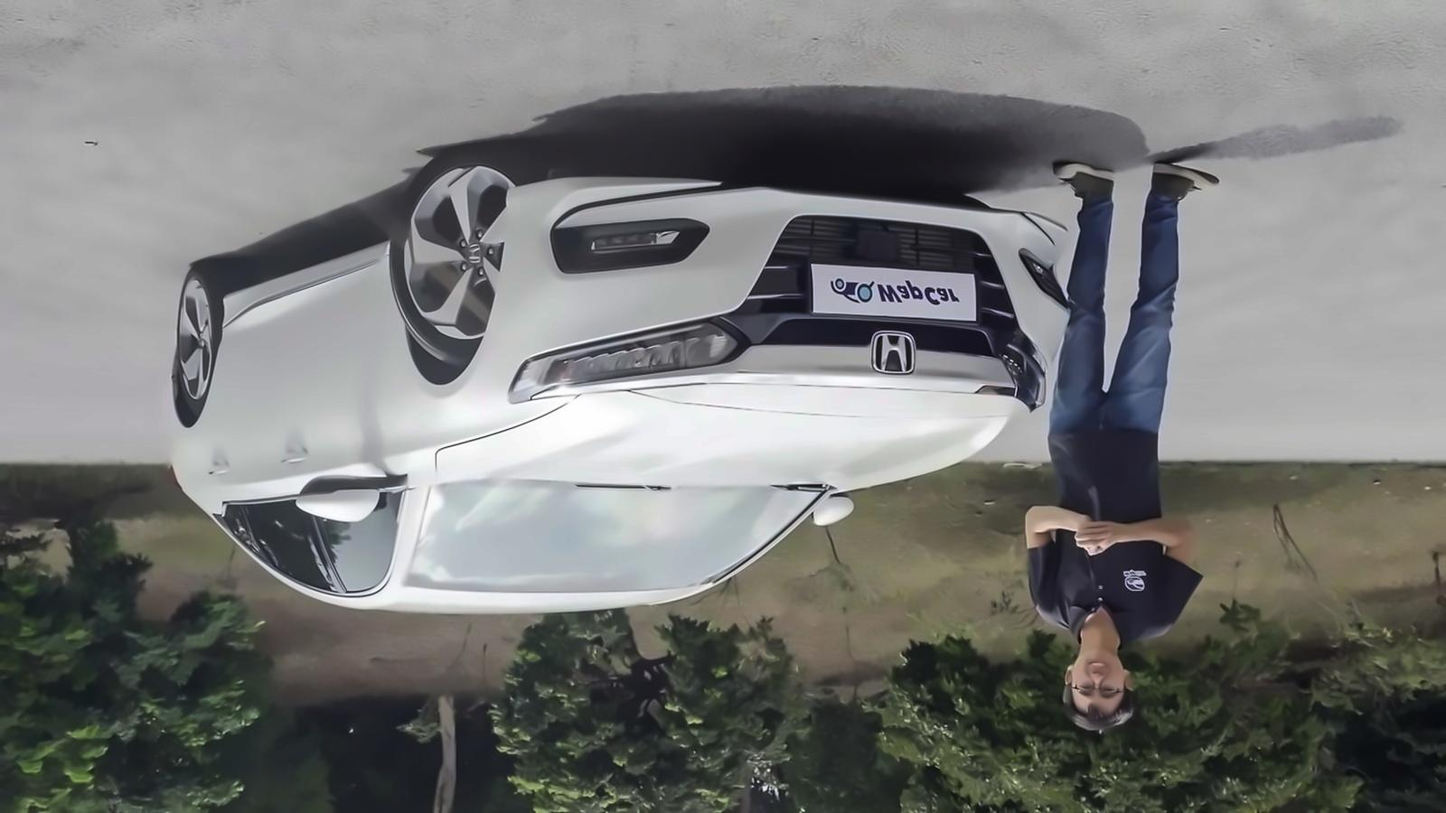Car hood: (438, 387, 1012, 497)
Fender - -F-L-: (374, 250, 558, 485)
Front bumper: (478, 174, 1076, 397)
Headlight - -L-: (507, 315, 758, 404)
Headlight - -R-: (998, 343, 1050, 420)
Passenger-s door - -F-L-: (266, 222, 432, 622)
Passenger-s door - -R-L-: (195, 220, 349, 622)
Side bumper - -L-: (207, 227, 407, 348)
Side mirror - -L-: (291, 469, 407, 522)
